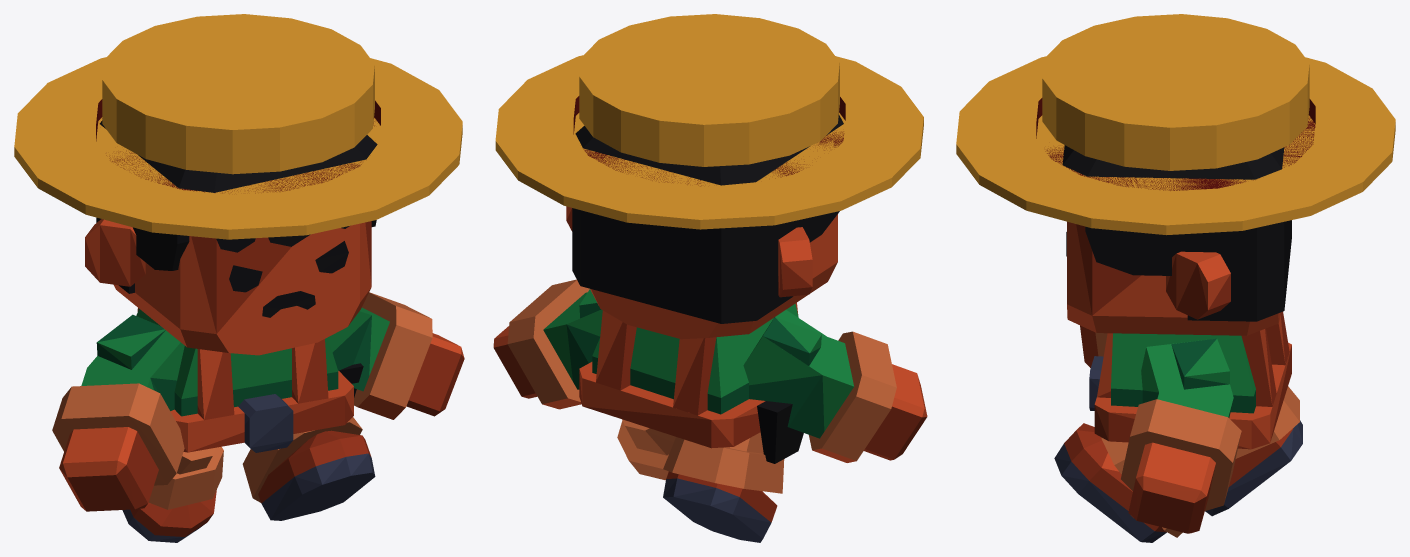
The model's file is Boy_walk_1.obj.
3 views of the same model, side by side, from view 1: azimuth 30°, elevation 25°; view 2: azimuth 150°, elevation 25°; view 3: azimuth 270°, elevation 25° (orthographic). The views are drawn at different scales.
Parts seen in each view (by area): view 1: Boy; view 2: Boy; view 3: Boy.
Boxes of the visible parts, x1,y1,x2,y2 form: Boy: (14,14,464,542); Boy: (493,14,927,542); Boy: (956,14,1395,542).
Bounding box in the file's own units: 0.7134 × 0.7702 × 0.6654.
